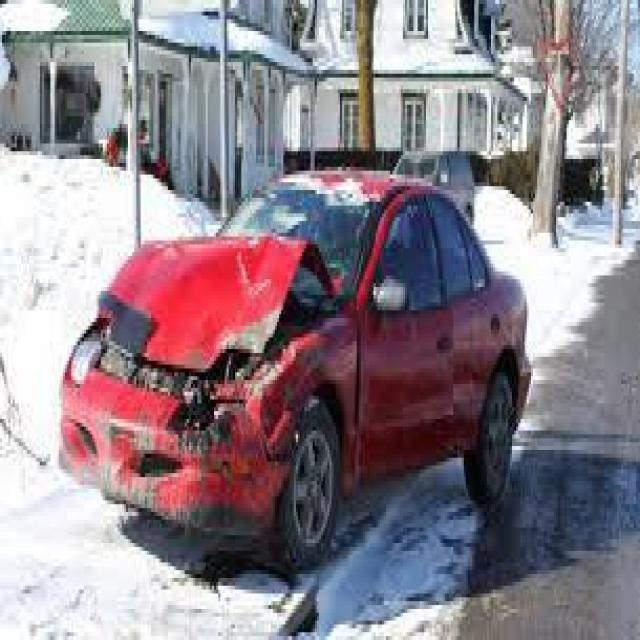damaged: (77, 236, 336, 524), (276, 167, 372, 217)
